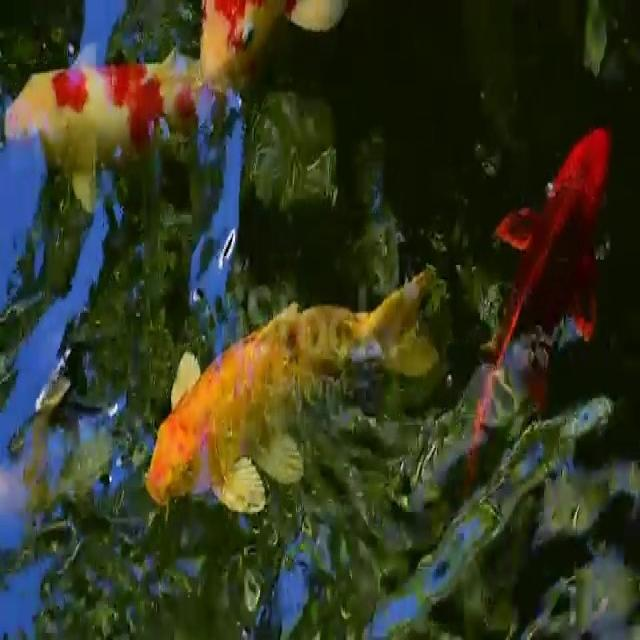fish: (139, 270, 464, 504), (481, 119, 624, 431), (0, 50, 223, 217), (190, 0, 355, 92)
